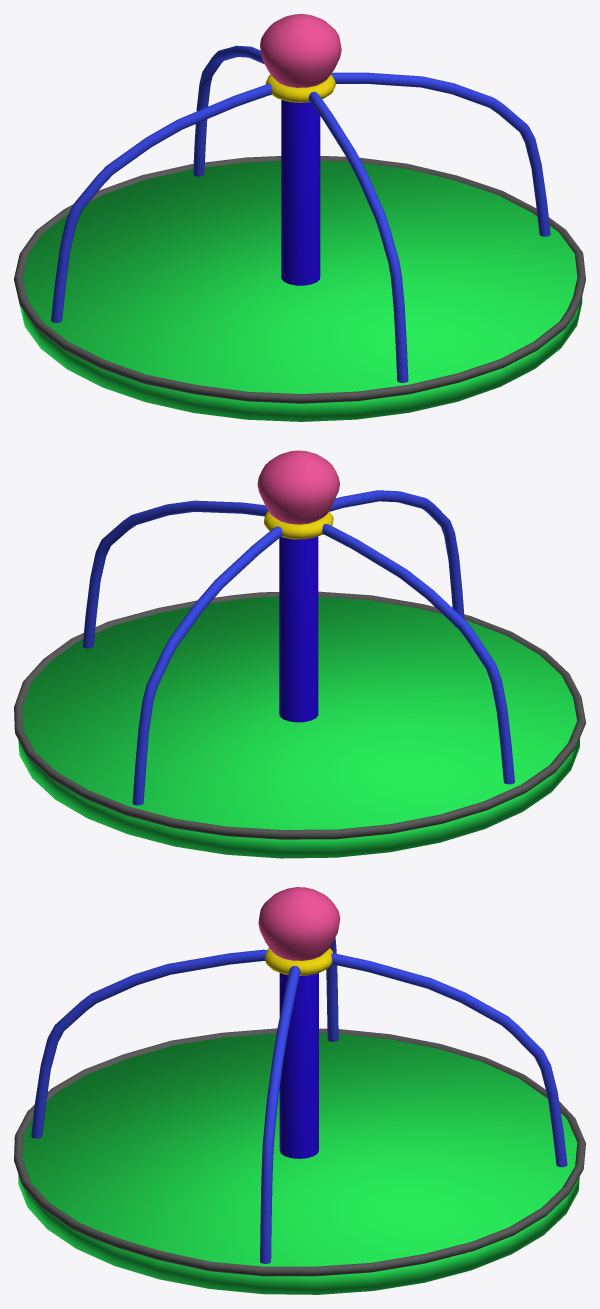
The model's file is spinner smooth.fbx.
The picture shows the model from 3 angles, top to bottom: view 1: azimuth 30°, elevation 25°; view 2: azimuth 150°, elevation 25°; view 3: azimuth 270°, elevation 25°; orthographic projection.
Parts seen in each view (by area): view 1: Circle, Cylinder.008, Spinner, Sphere, Cylinder.006, Cylinder.004, Cylinder.005, Cylinder.007, Torus; view 2: Circle, Cylinder.008, Spinner, Sphere, Cylinder.006, Cylinder.007, Cylinder.004, Cylinder.005, Torus; view 3: Circle, Cylinder.008, Spinner, Sphere, Cylinder.007, Cylinder.005, Cylinder.004, Torus, Cylinder.006.
Part boxes in pixels (bbox=[...]): Circle: bbox=[19, 160, 582, 421]; Cylinder.008: bbox=[14, 156, 585, 403]; Spinner: bbox=[281, 100, 320, 285]; Sphere: bbox=[260, 14, 341, 87]; Cylinder.006: bbox=[51, 84, 271, 322]; Cylinder.004: bbox=[331, 72, 550, 236]; Cylinder.005: bbox=[308, 91, 408, 382]; Cylinder.007: bbox=[193, 45, 264, 176]; Torus: bbox=[265, 74, 335, 102]; Circle: bbox=[18, 596, 579, 858]; Cylinder.008: bbox=[14, 591, 585, 839]; Spinner: bbox=[279, 536, 318, 722]; Sphere: bbox=[257, 450, 339, 524]; Cylinder.006: bbox=[322, 523, 514, 784]; Cylinder.007: bbox=[132, 526, 282, 805]; Cylinder.004: bbox=[82, 500, 268, 648]; Cylinder.005: bbox=[329, 490, 464, 626]; Torus: bbox=[264, 511, 333, 539]; Circle: bbox=[18, 1033, 579, 1294]; Cylinder.008: bbox=[14, 1028, 585, 1276]; Spinner: bbox=[279, 973, 318, 1158]; Sphere: bbox=[258, 887, 340, 960]; Cylinder.007: bbox=[331, 953, 567, 1167]; Cylinder.005: bbox=[31, 949, 267, 1138]; Cylinder.004: bbox=[260, 966, 300, 1263]; Torus: bbox=[265, 948, 333, 975]; Cylinder.006: bbox=[326, 938, 338, 1041].
Bounding box in the file's own units: 406 × 264 × 406.
